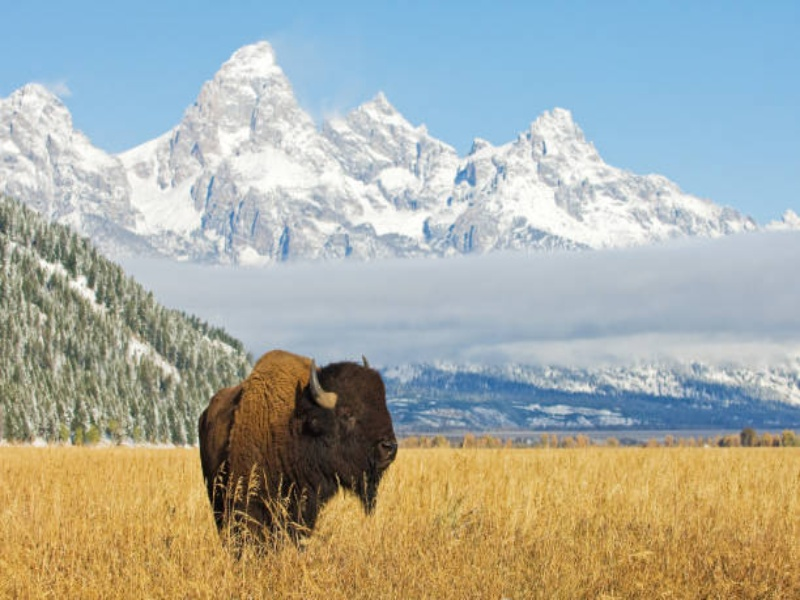buffalo: (178, 349, 403, 551)
